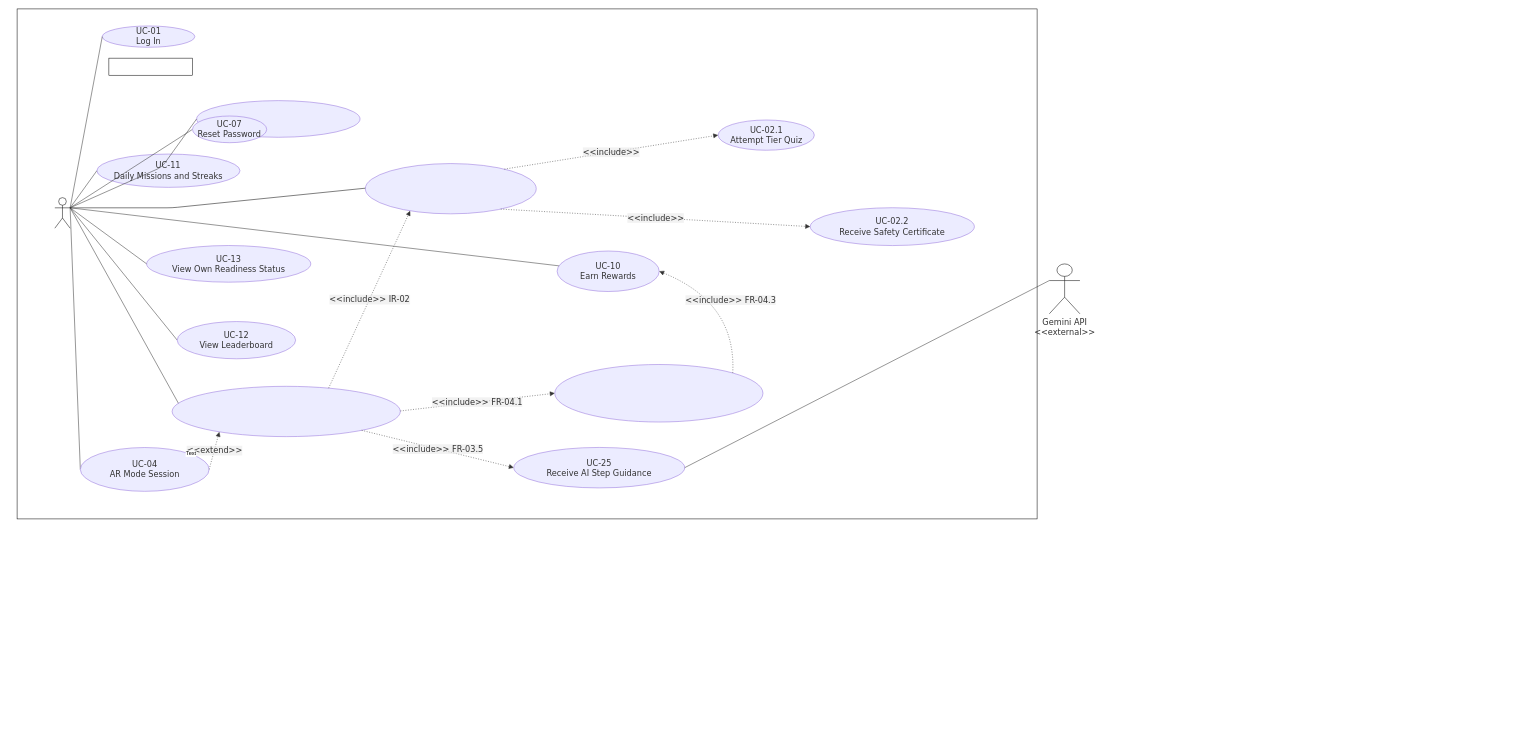
Image size: 1517x742. Some labels were removed from this diagram. Here are the shapes that lost their labels. From the top down, the box of each, then its label:
(108, 58, 193, 75): Student-usecase diagram
(196, 100, 360, 137): UC-08 Browse Experiment Library
(365, 163, 536, 214): UC-02 Safety Certification
(54, 197, 70, 228): Student
(172, 386, 400, 437): UC-03 Perform Virtual Experiment
(554, 364, 763, 422): UC-09 Take Knowledge Quiz
